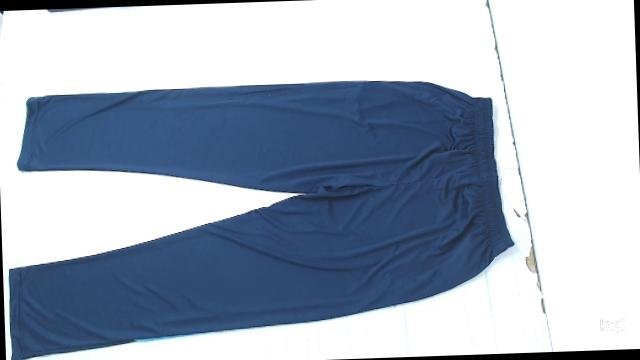new-garment: (10, 81, 512, 360)
